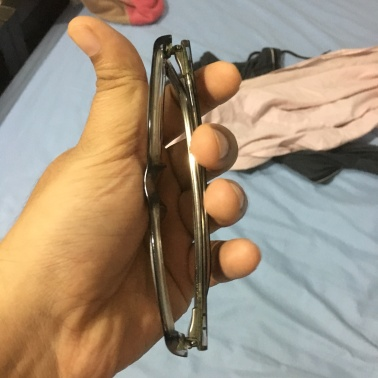glasses: (139, 28, 218, 358)
